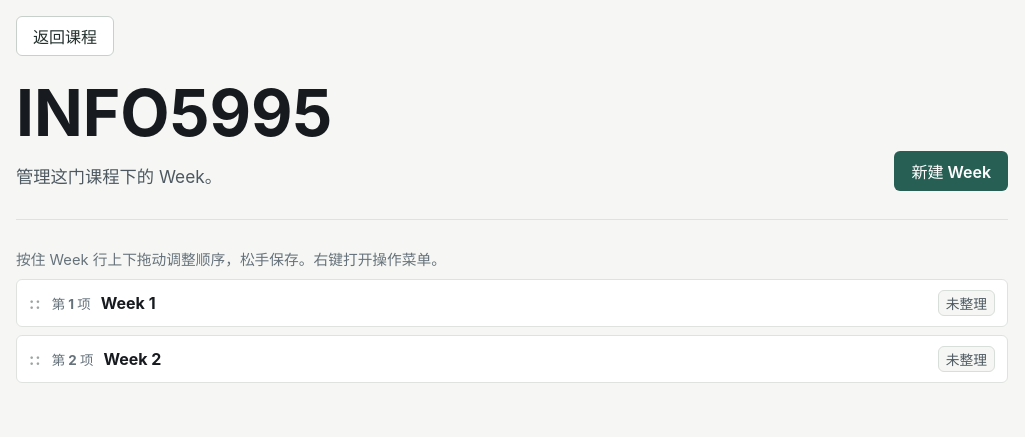
it: CourseDetailPage Week management › 排序失败后恢复原顺序
Expected: the heading "INFO5995" is shown, [16,74,332,151]
Expected: the list item "Week 2" is shown, [16,335,1008,383]
Press the mouse on the list item ":: 第 1 项 Week 1 未整理": (512, 303) [16,279,1008,327]
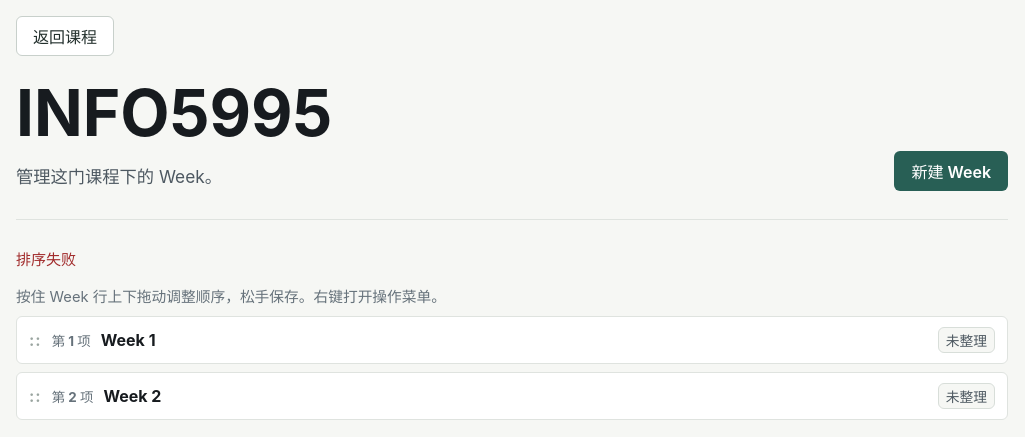
Now the message reads "排序失败", box [16,250,76,269]
